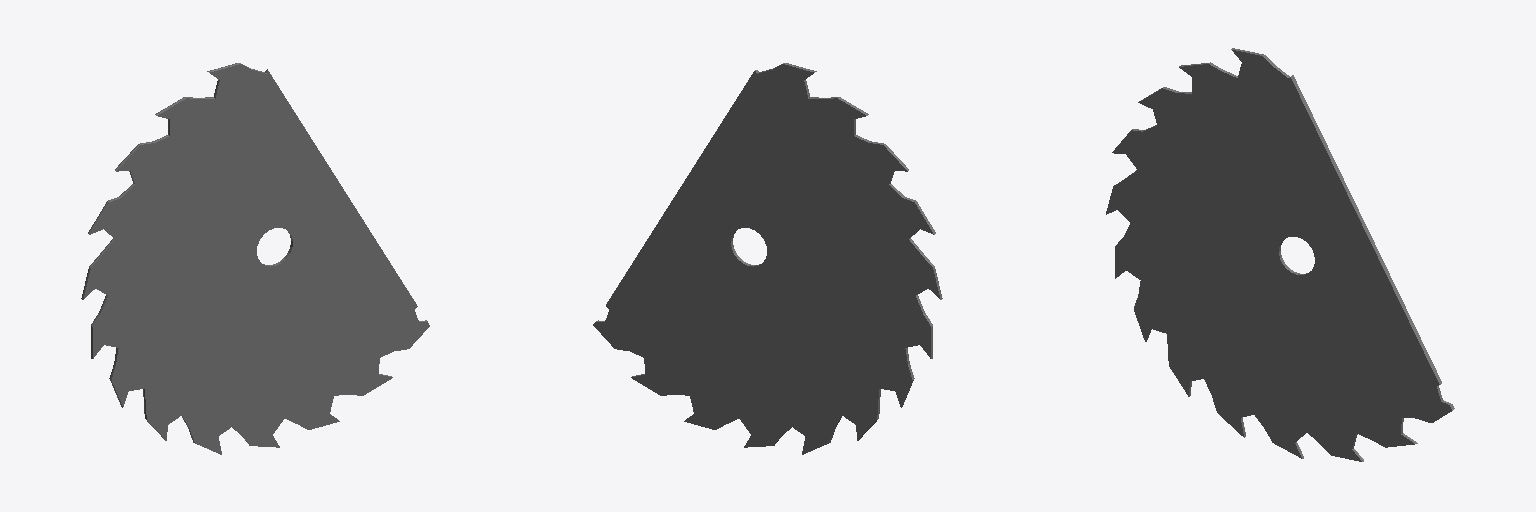
Rendered from newscene.obj.
The picture shows the model from 3 angles: view 1: azimuth 30°, elevation 25°; view 2: azimuth 150°, elevation 25°; view 3: azimuth 330°, elevation 25°; orthographic projection.
Parts seen in each view (by area): view 1: Mesh; view 2: Mesh; view 3: Mesh.
Boxes of the visible parts, x1,y1,x2,y2 form: Mesh: [81, 63, 429, 454]; Mesh: [593, 63, 942, 454]; Mesh: [1106, 48, 1454, 461].
Size of the model in its own units: 77.16 by 83.56 by 0.7657.